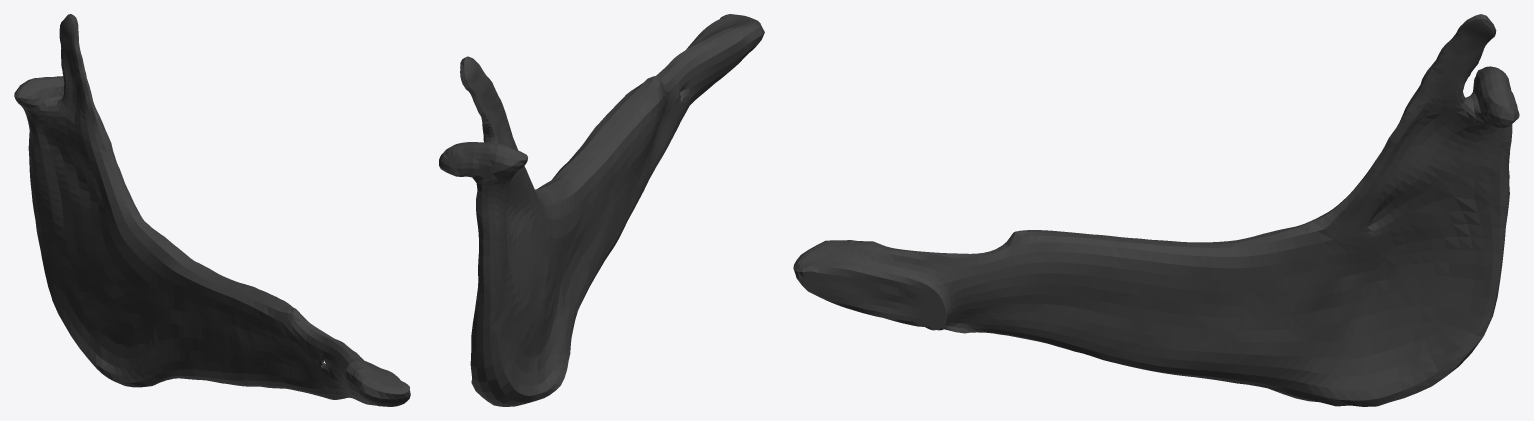
The model's file is R_hemimandible.glb.
3 views of the same model, side by side, from view 1: azimuth 30°, elevation 25°; view 2: azimuth 150°, elevation 25°; view 3: azimuth 270°, elevation 25° (orthographic). The views are drawn at different scales.
Parts seen in each view (by area): view 1: R_hemimandible; view 2: R_hemimandible; view 3: R_hemimandible.
Boxes of the visible parts, x1=… form: R_hemimandible: x1=14, y1=14, x2=410, y2=406; R_hemimandible: x1=439, y1=14, x2=764, y2=406; R_hemimandible: x1=793, y1=14, x2=1519, y2=406.
Size of the model in its own units: 1.05 by 2.84 by 4.76.
Materials: 1 (1 with a texture image).
